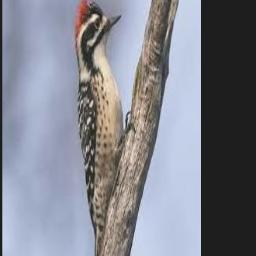Woodpecker: (73, 0, 135, 256)
